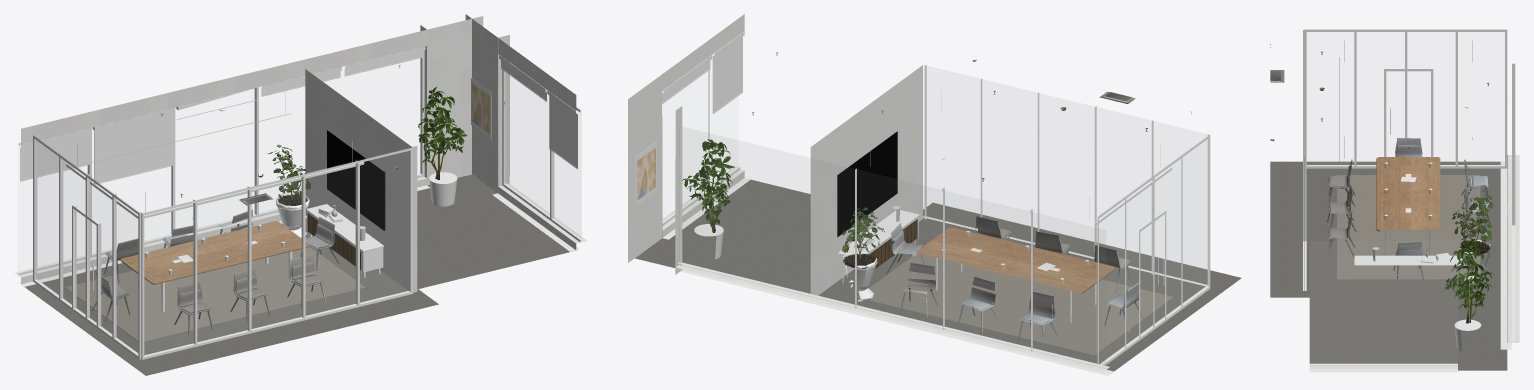
The model's file is z-open_n-lite.full.a5465e50.glb.
3 views of the same model, side by side, from view 1: azimuth 30°, elevation 25°; view 2: azimuth 150°, elevation 25°; view 3: azimuth 270°, elevation 25° (orthographic). The views are drawn at different scales.
Parts seen in each view (by area): view 1: open_n_carpet, open_n_plaster, open_n_satin, open_n_glass, open_n_fx, open_n_oak, open_n_emit, open_n_veg_atlas, open_n_metal_lit, open_n_art, open_n_proxy_cab; view 2: open_n_carpet, open_n_plaster, open_n_glass, open_n_satin, open_n_fx, open_n_oak, open_n_emit, open_n_veg_atlas, open_n_metal_lit, open_n_art, open_n_proxy_cab; view 3: open_n_carpet, open_n_satin, open_n_oak, open_n_fx, open_n_veg_atlas, open_n_plaster, open_n_metal_lit.
Part boxes in pixels (x1,y1,x2,y2): open_n_carpet: [22, 174, 575, 375]; open_n_plaster: [15, 14, 586, 292]; open_n_satin: [17, 46, 582, 359]; open_n_glass: [37, 168, 304, 267]; open_n_fx: [92, 65, 505, 335]; open_n_oak: [120, 221, 309, 284]; open_n_emit: [71, 113, 385, 230]; open_n_veg_atlas: [267, 86, 467, 205]; open_n_metal_lit: [24, 78, 570, 311]; open_n_art: [471, 83, 489, 133]; open_n_proxy_cab: [307, 213, 360, 269]; open_n_carpet: [635, 179, 1241, 373]; open_n_plaster: [628, 14, 1109, 371]; open_n_glass: [682, 127, 1207, 364]; open_n_satin: [662, 31, 1210, 375]; open_n_fx: [752, 52, 1191, 347]; open_n_oak: [916, 227, 1114, 293]; open_n_emit: [837, 131, 1095, 237]; open_n_veg_atlas: [682, 139, 884, 268]; open_n_metal_lit: [635, 141, 1164, 371]; open_n_art: [637, 147, 655, 200]; open_n_proxy_cab: [862, 219, 917, 269]; open_n_carpet: [1270, 161, 1507, 370]; open_n_satin: [1303, 29, 1515, 372]; open_n_oak: [1376, 157, 1440, 231]; open_n_fx: [1270, 44, 1490, 281]; open_n_veg_atlas: [1445, 191, 1494, 323]; open_n_plaster: [1304, 155, 1519, 368]; open_n_metal_lit: [1385, 107, 1501, 349].
Bounding box in the file's own units: 10.25 × 3.3 × 5.05.
Materials: 13 (7 with a texture image).
